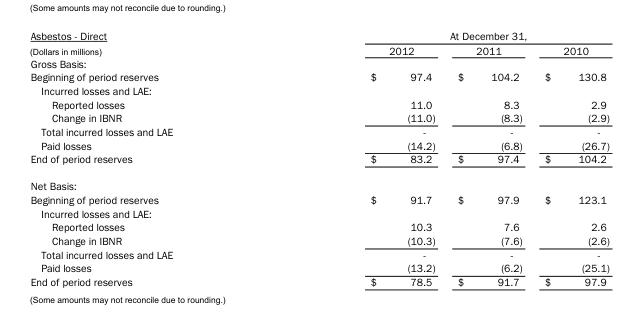table: (28, 29, 608, 287)
table column: (28, 29, 271, 287), (271, 29, 445, 287), (445, 29, 532, 287), (532, 29, 608, 287)
table column header: (28, 29, 608, 56)
table projected row header: (28, 172, 608, 192), (28, 56, 608, 69), (28, 83, 608, 96), (28, 206, 608, 219)
table row: (28, 151, 608, 172), (28, 172, 608, 192), (28, 42, 608, 56), (28, 69, 608, 83), (28, 96, 608, 110), (28, 110, 608, 124), (28, 137, 608, 151), (28, 192, 608, 206), (28, 219, 608, 233), (28, 233, 608, 247), (28, 260, 608, 274), (28, 29, 608, 42), (28, 56, 608, 69), (28, 83, 608, 96), (28, 124, 608, 137), (28, 206, 608, 219), (28, 247, 608, 260), (28, 274, 608, 287)
table spanning cell: (28, 29, 271, 56), (271, 29, 608, 42)
